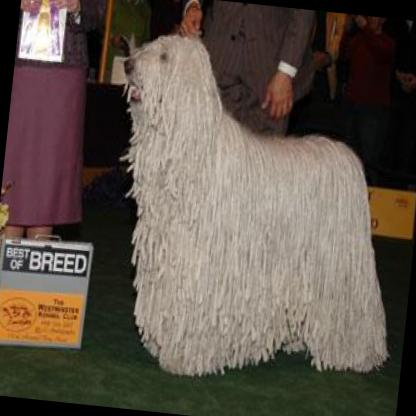komondor: (78, 22, 416, 392)
